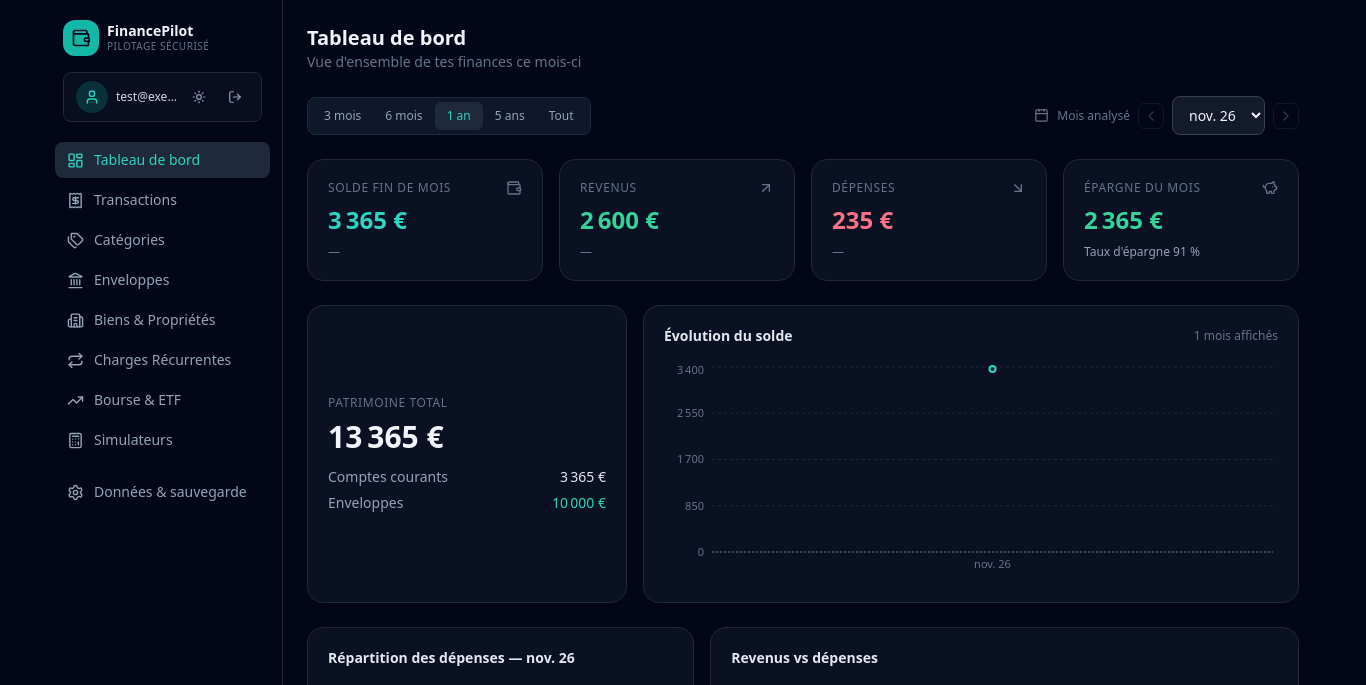
Test case: Application › liste les transactions chargées
Click the button "Transactions".
click(162, 200)  # box [55,182,270,218]
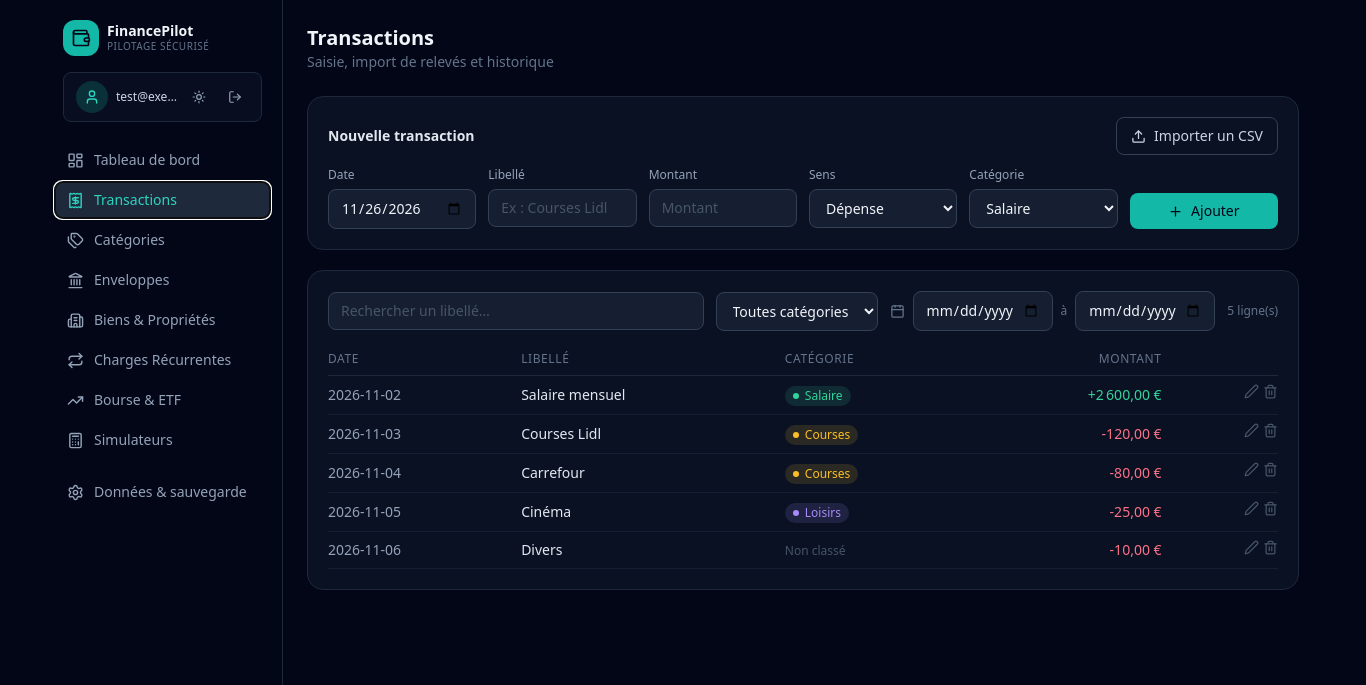
Now the text "Courses Lidl" is shown, box [521,414,785,454]
Now the text "Salaire mensuel" is shown, box [521,376,785,414]
